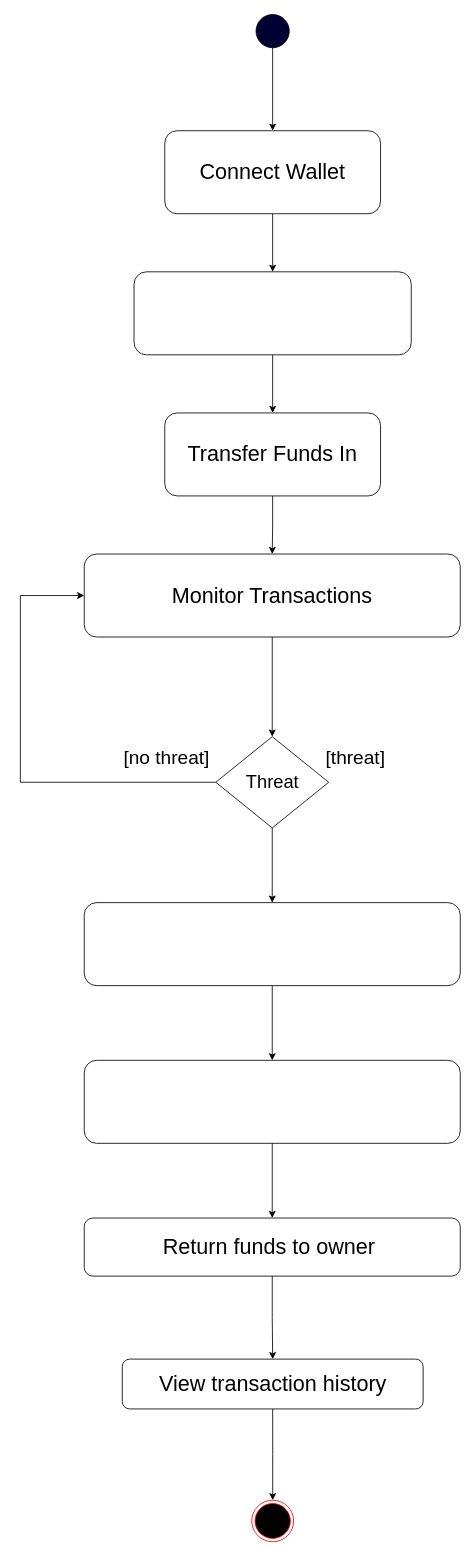
This 475x1556 diagram has some shape labels left out. The centre of each missing label's shape, as x and y in pixels:
"Create protected wallet" belongs at (x=272, y=313).
"Swap tokens via liquidity pool" belongs at (x=271, y=1101).
"Trigger self-destruct mechanism" belongs at (x=271, y=944).
